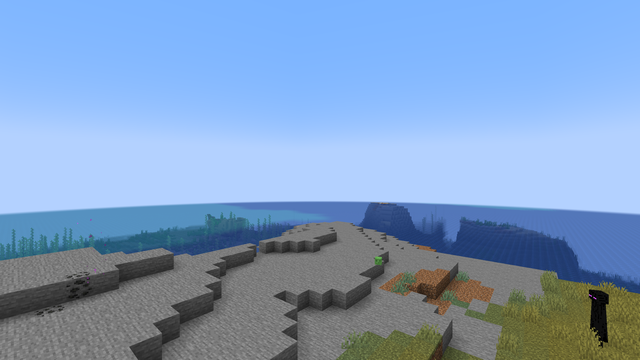endermens: (589, 286, 608, 350)
slimes: (373, 255, 382, 264)
